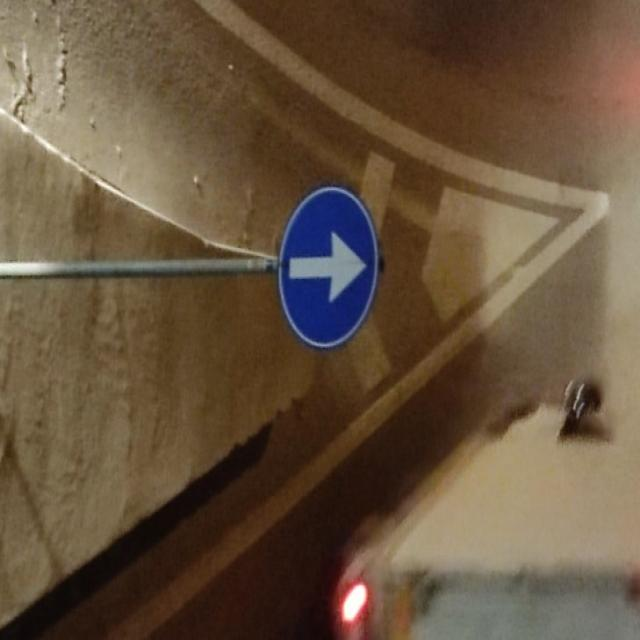Turn Right: (278, 177, 383, 357)
